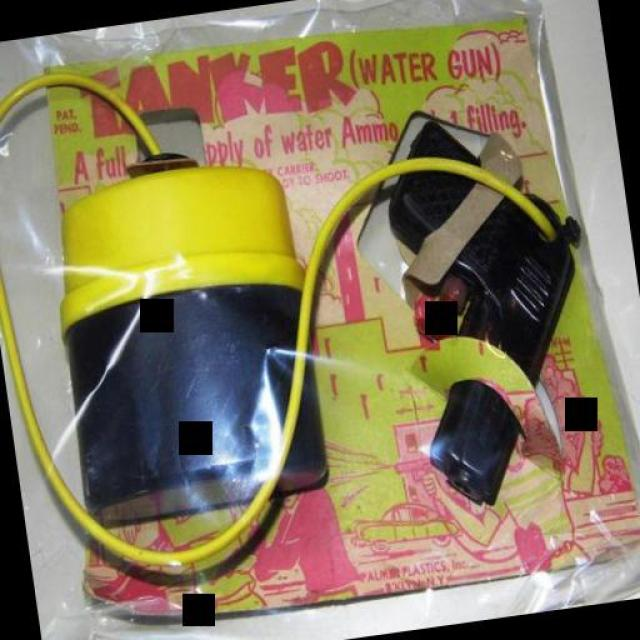gun: (359, 82, 619, 518)
